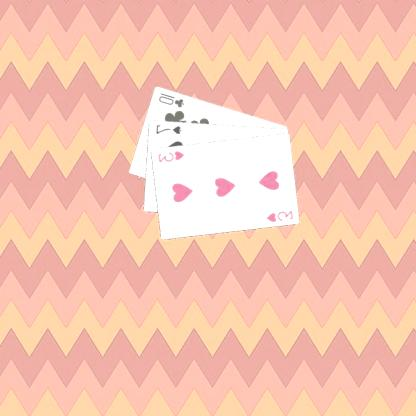10C: (157, 90, 187, 108)
3H: (157, 148, 187, 164), (266, 208, 296, 224)
7S: (155, 122, 184, 135)
